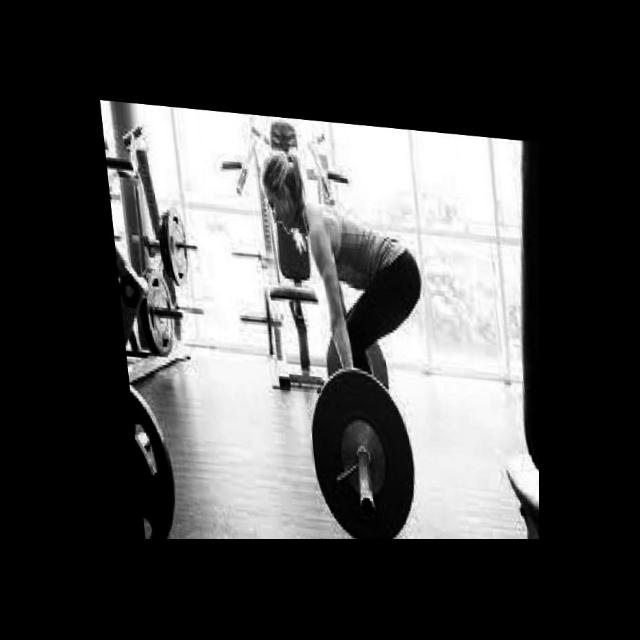barbell: (296, 357, 417, 539)
